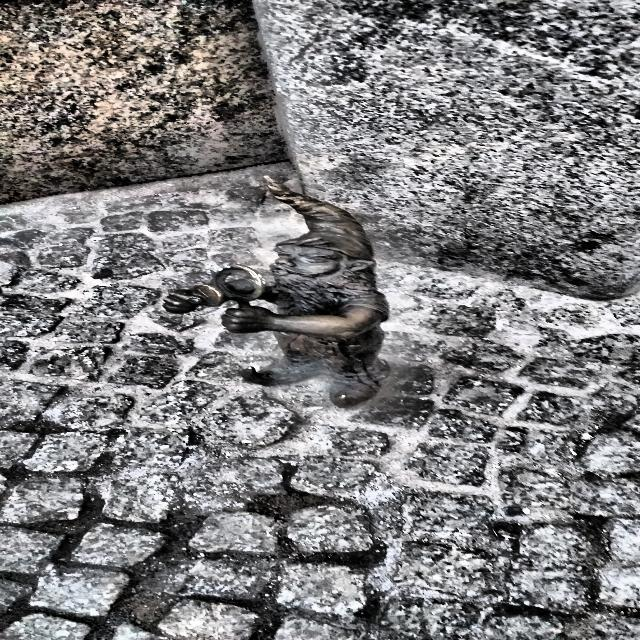Kolekcjoner: (165, 178, 391, 408)
